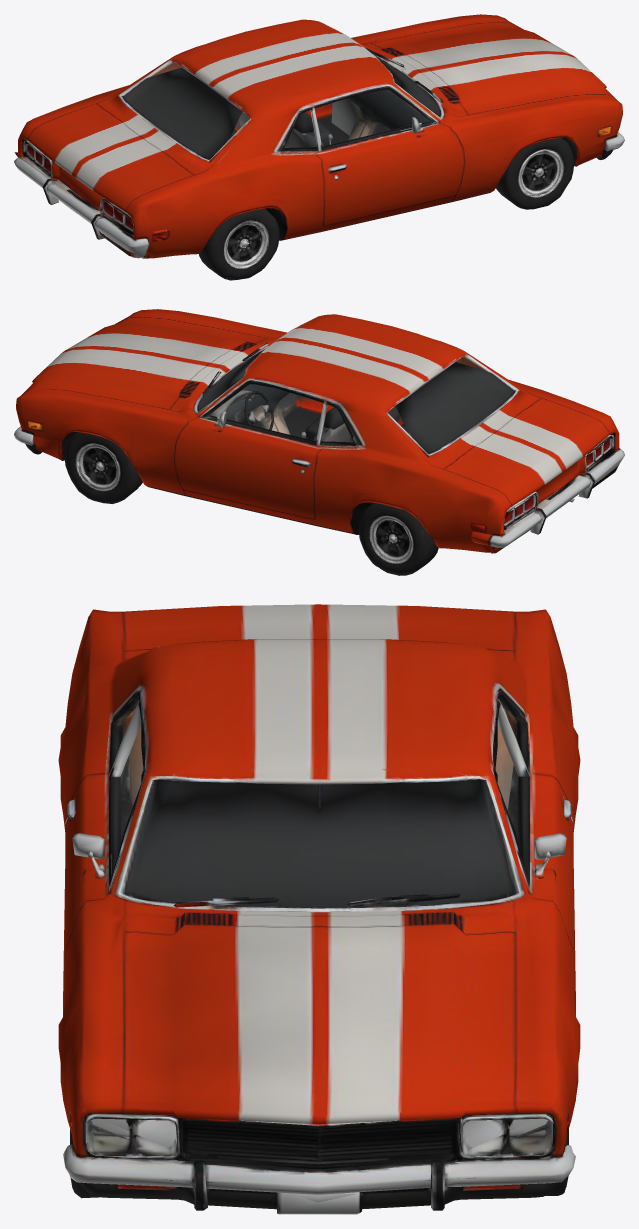
The model's file is car.glb.
3 renders of one model, top to bottom at view 1: azimuth 30°, elevation 25°; view 2: azimuth 150°, elevation 25°; view 3: azimuth 270°, elevation 25°, orthographic. The views are drawn at different scales.
Visible parts, largest first — view 1: tripo_node_c40ef1b5-82ff-4004-9cd0-75cb706be1c5; view 2: tripo_node_c40ef1b5-82ff-4004-9cd0-75cb706be1c5; view 3: tripo_node_c40ef1b5-82ff-4004-9cd0-75cb706be1c5.
Boxes of the visible parts, x1=… form: tripo_node_c40ef1b5-82ff-4004-9cd0-75cb706be1c5: x1=14, y1=14, x2=624, y2=280; tripo_node_c40ef1b5-82ff-4004-9cd0-75cb706be1c5: x1=14, y1=309, x2=624, y2=575; tripo_node_c40ef1b5-82ff-4004-9cd0-75cb706be1c5: x1=58, y1=604, x2=580, y2=1214.
Bounding box in the file's own units: 5.21 × 1.5 × 2.32.
1 material, 1 textured.
